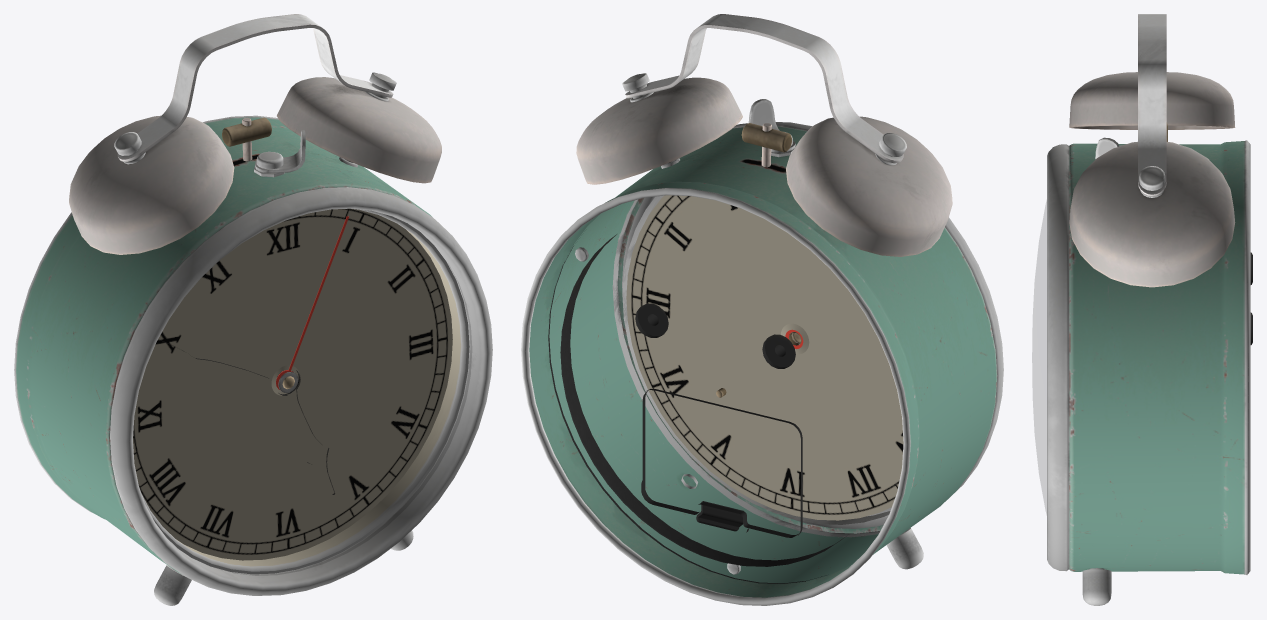
Rendered from alarm_clock_01_cc0_clip_ready_v1.fbx.
3 views of the same model, side by side, from view 1: azimuth 30°, elevation 25°; view 2: azimuth 150°, elevation 25°; view 3: azimuth 270°, elevation 25° (orthographic). The views are drawn at different scales.
Parts seen in each view (by area): view 1: obj1, obj2; view 2: obj1; view 3: obj1, obj2.
Part boxes in pixels (box(x1,y1,x2,y2)): obj1: box(14, 14, 492, 605); obj2: box(237, 283, 471, 575); obj1: box(521, 14, 1003, 605); obj1: box(1047, 14, 1252, 605); obj2: box(1032, 202, 1046, 512).
Size of the model in its own units: 13.17 by 17.42 by 6.67.
2 materials, 2 textured.
